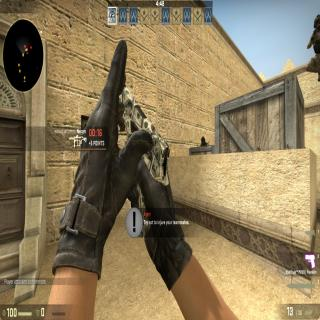CT-Body: (305, 14, 320, 85)
CT-Head: (312, 14, 320, 33), (198, 134, 208, 148)
